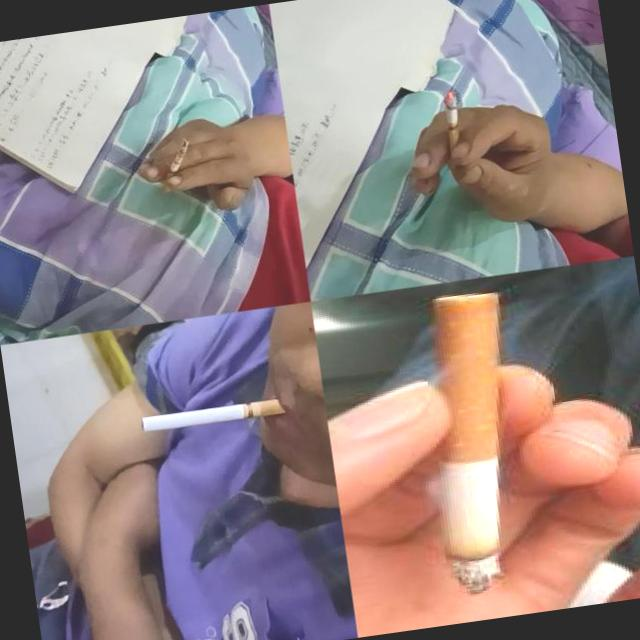smoke: (397, 283, 542, 600), (142, 398, 288, 434), (156, 138, 198, 193), (441, 88, 468, 164)
